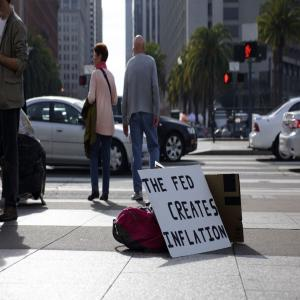Vehicle-registration-plate: (286, 126, 290, 135)
